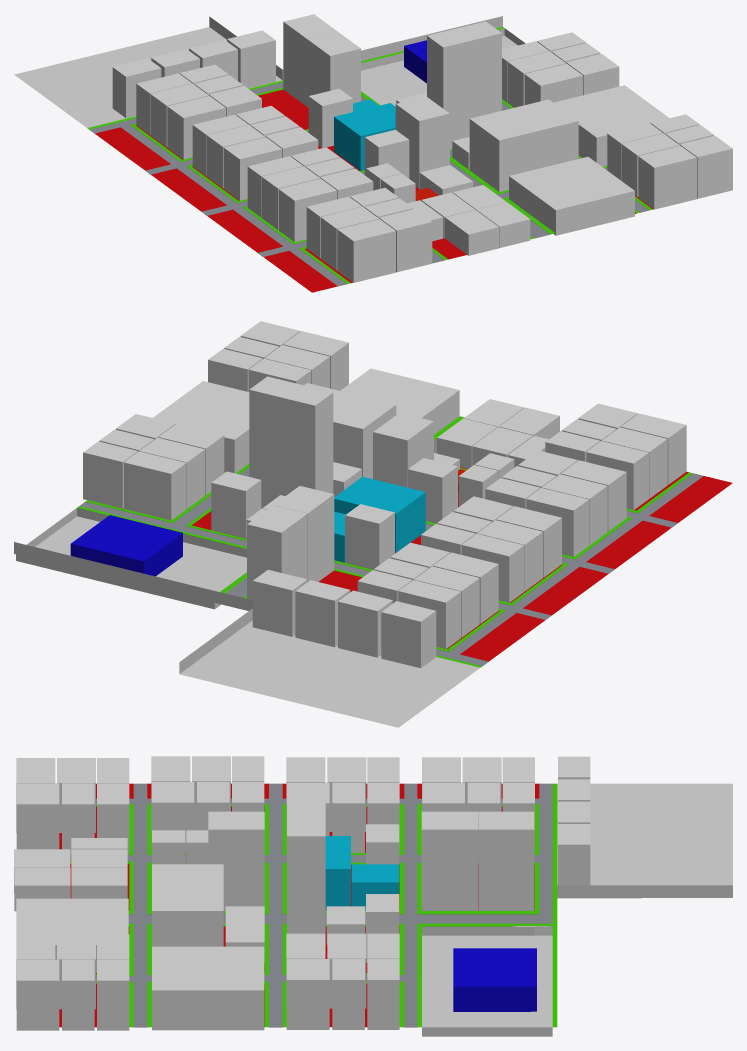
Rendered from cALLES2.fbx.
3 renders of one model, top to bottom at view 1: azimuth 30°, elevation 25°; view 2: azimuth 150°, elevation 25°; view 3: azimuth 270°, elevation 25°, orthographic. The views are drawn at different scales.
Visible parts, largest first — view 1: Plane.001, Cube, Cube.005, Cube.008, Cube.009, Cube.003, Cube.083, Cube.084, Cube.016, Cube.004, Cube.017, Cube.078 (+49 smaller); view 2: Plane.001, Cube.005, Cube.024, Cube.009, Cube.017, Cube.008, Cube.045, Cube, Cube.003, Cube.004, Cube.022, Cube.016 (+47 smaller); view 3: Plane.001, Cube.009, Cube, Cube.017, Cube.016, Cube.024, Cube.005, Cube.003, Cube.008, Cube.089, Cube.042, Cube.078 (+51 smaller).
Boxes of the visible parts, x1,y1,x2,y2 form: Plane.001: (14,16,697,292); Cube: (469,99,578,191); Cube.005: (427,21,501,149); Cube.008: (509,157,634,235); Cube.009: (553,85,669,166); Cube.003: (395,96,449,188); Cube.083: (337,219,395,282); Cube.084: (638,146,696,209); Cube.016: (307,31,360,107); Cube.004: (334,103,395,170); Cube.017: (283,14,337,106); Cube.078: (379,209,432,272); Plane.001: (14,416,732,727); Cube.005: (249,376,333,508); Cube.024: (70,515,182,576); Cube.009: (153,381,249,473); Cube.017: (247,505,307,599); Cube.008: (340,368,459,434); Cube.045: (124,451,186,520); Cube: (304,383,396,478); Cube.003: (373,413,433,487); Cube.004: (334,476,425,552); Cube.022: (381,601,436,668); Cube.016: (274,486,334,581); Plane.001: (59,783,732,1036); Cube.009: (152,946,264,1030); Cube: (152,864,223,946); Cube.017: (478,811,534,910); Cube.016: (421,811,477,910); Cube.024: (453,948,536,1011); Cube.005: (287,802,325,958); Cube.003: (208,811,264,910); Cube.008: (16,898,128,972); Cube.089: (16,959,59,1030); Cube.042: (286,959,329,1029); Cube.078: (16,783,59,849).
Bounding box in the file's own units: 20249 × 5183 × 24926.
